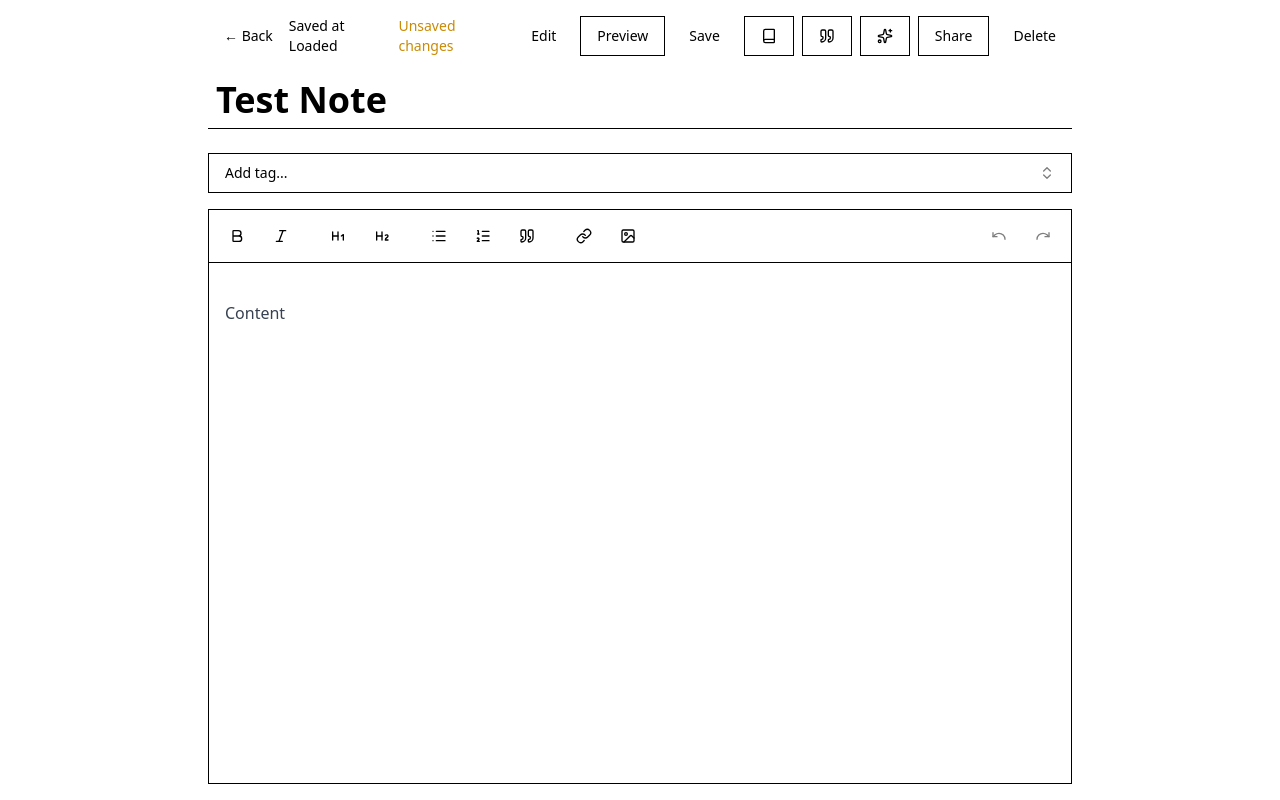
NoteEditor Additional Coverage › handles sharing to a group
This screenshot has width=1280, height=800.
Expected: the field showing "Test Note" is shown, [208, 72, 1072, 129]
Click the button "Share" at (954, 36), box [918, 16, 989, 56]
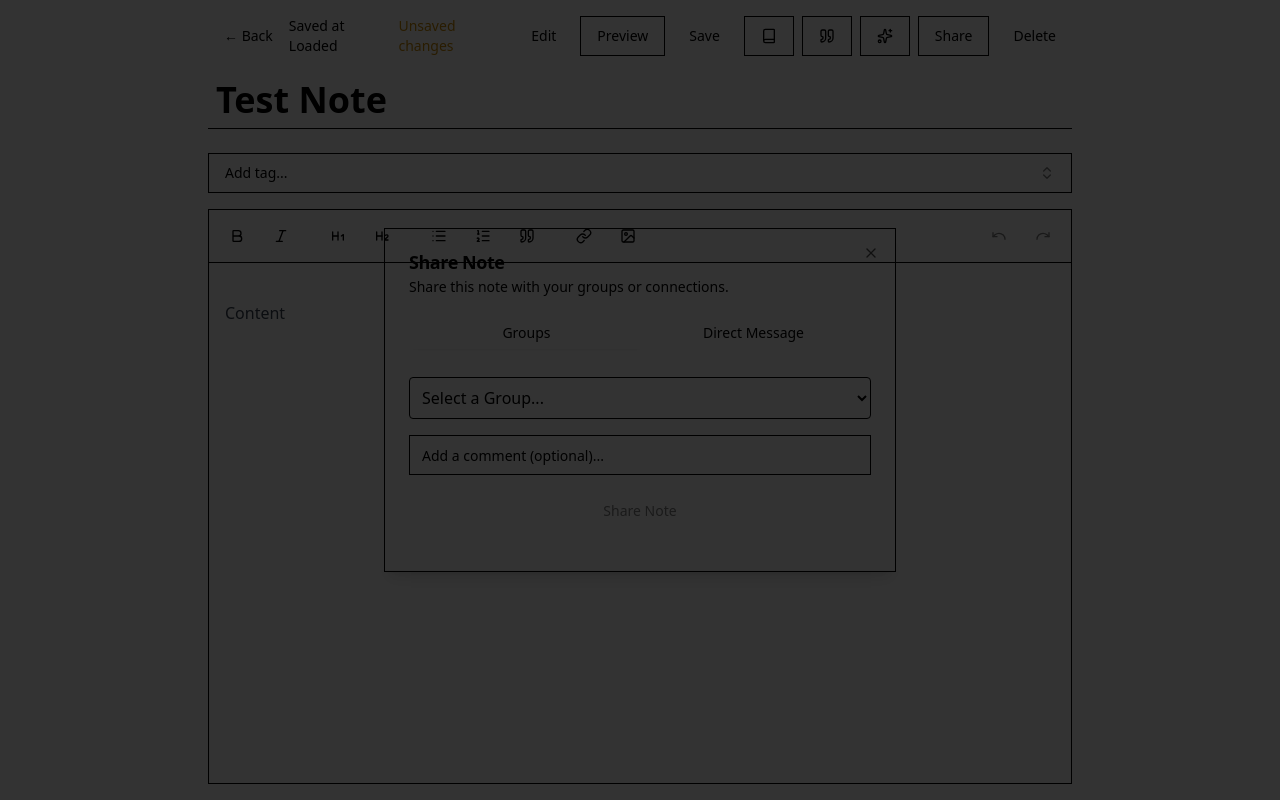
# Select Group
Select "Study Group" in the dropdown at (640, 398), box [409, 377, 871, 419]
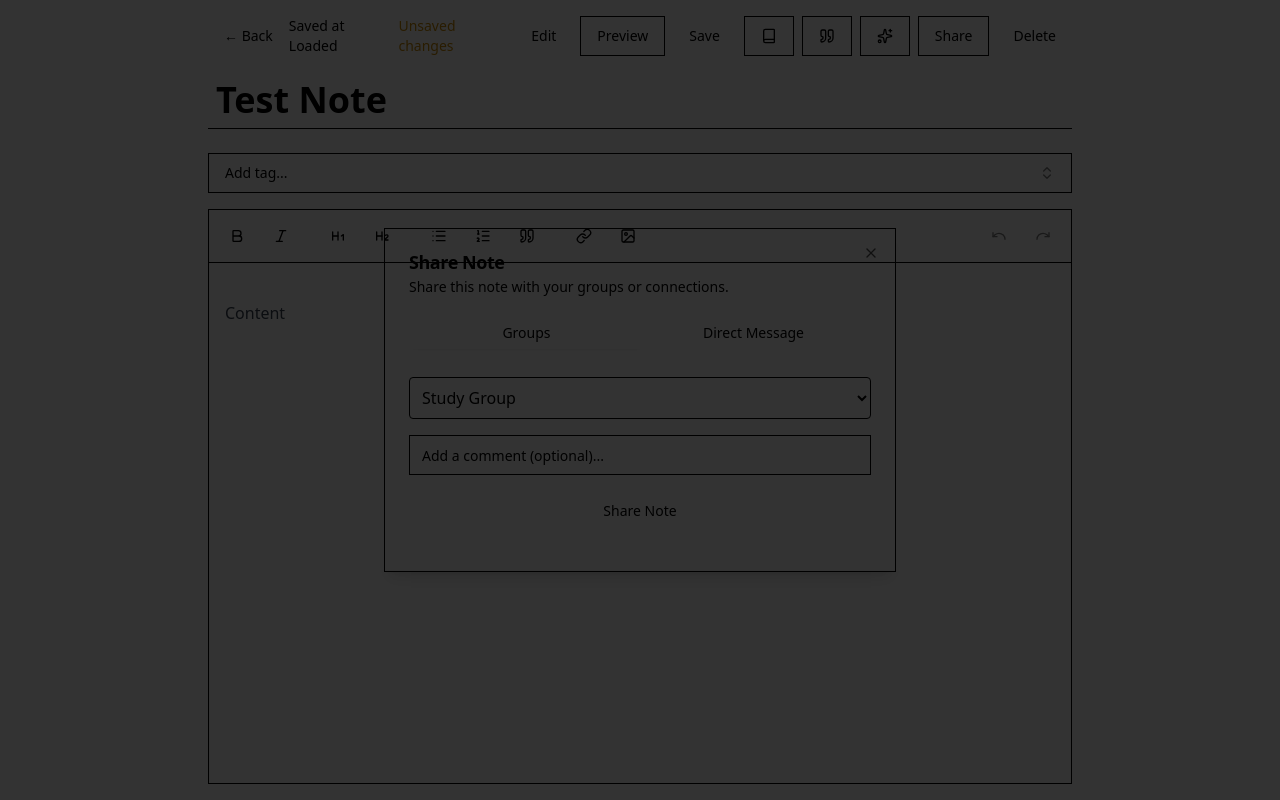
Type "Check this out" into the field with placeholder "Add a comment (optional)..." at (640, 455), box [409, 435, 871, 475]
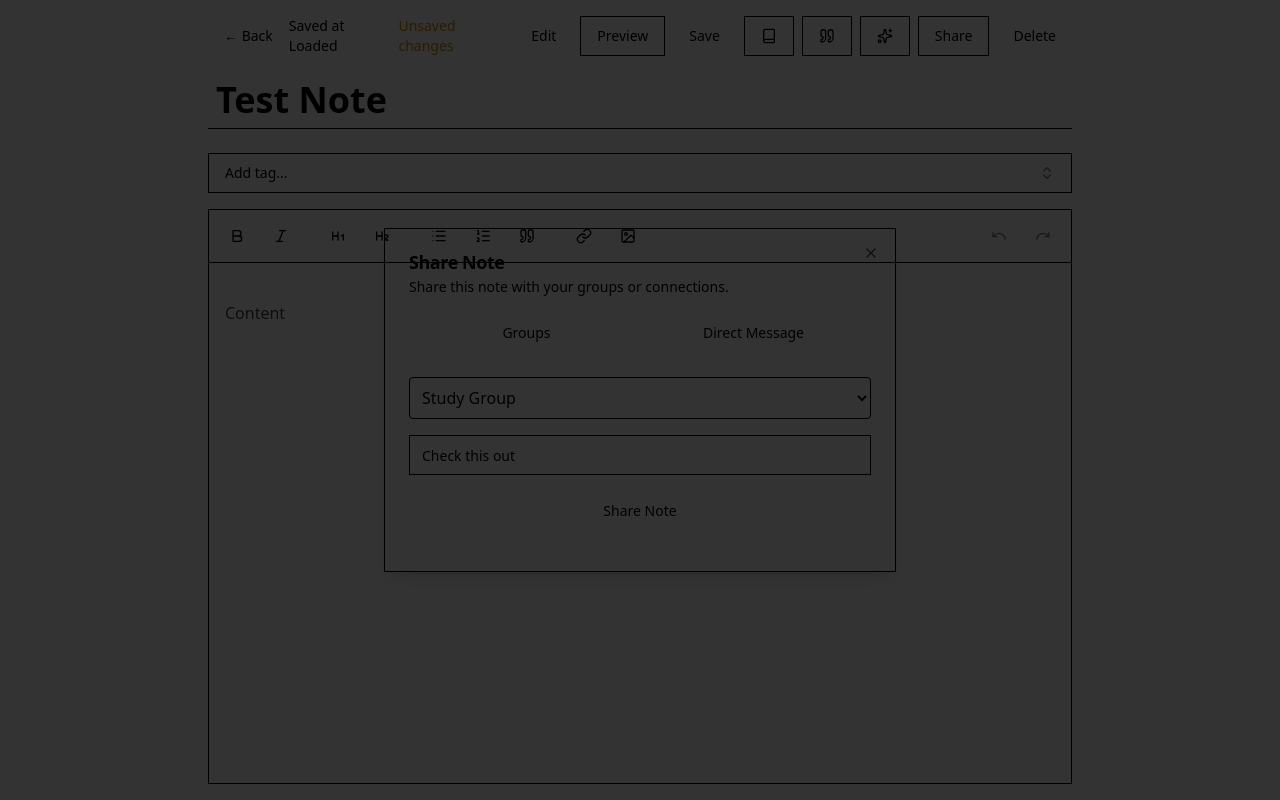
Click the button "Share Note" at (640, 511), box [409, 491, 871, 531]
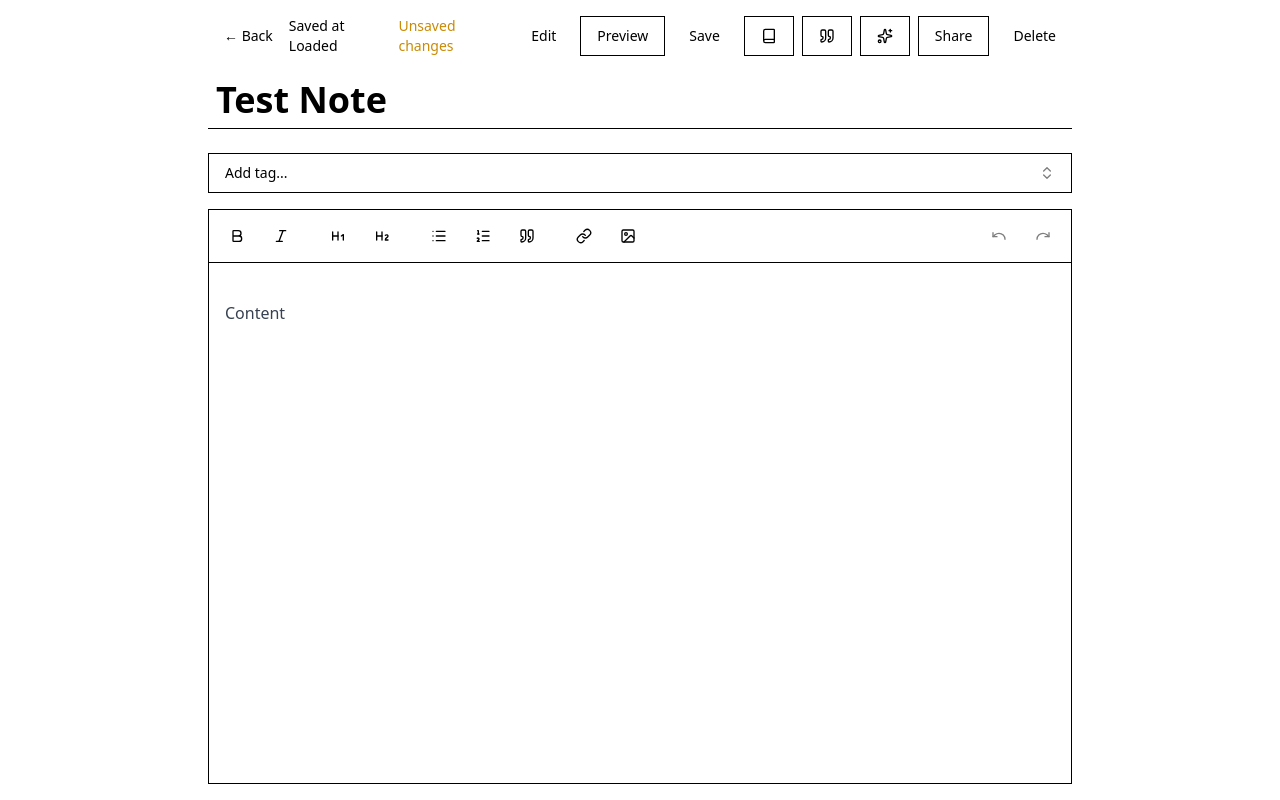
Expected: the dialog is gone
